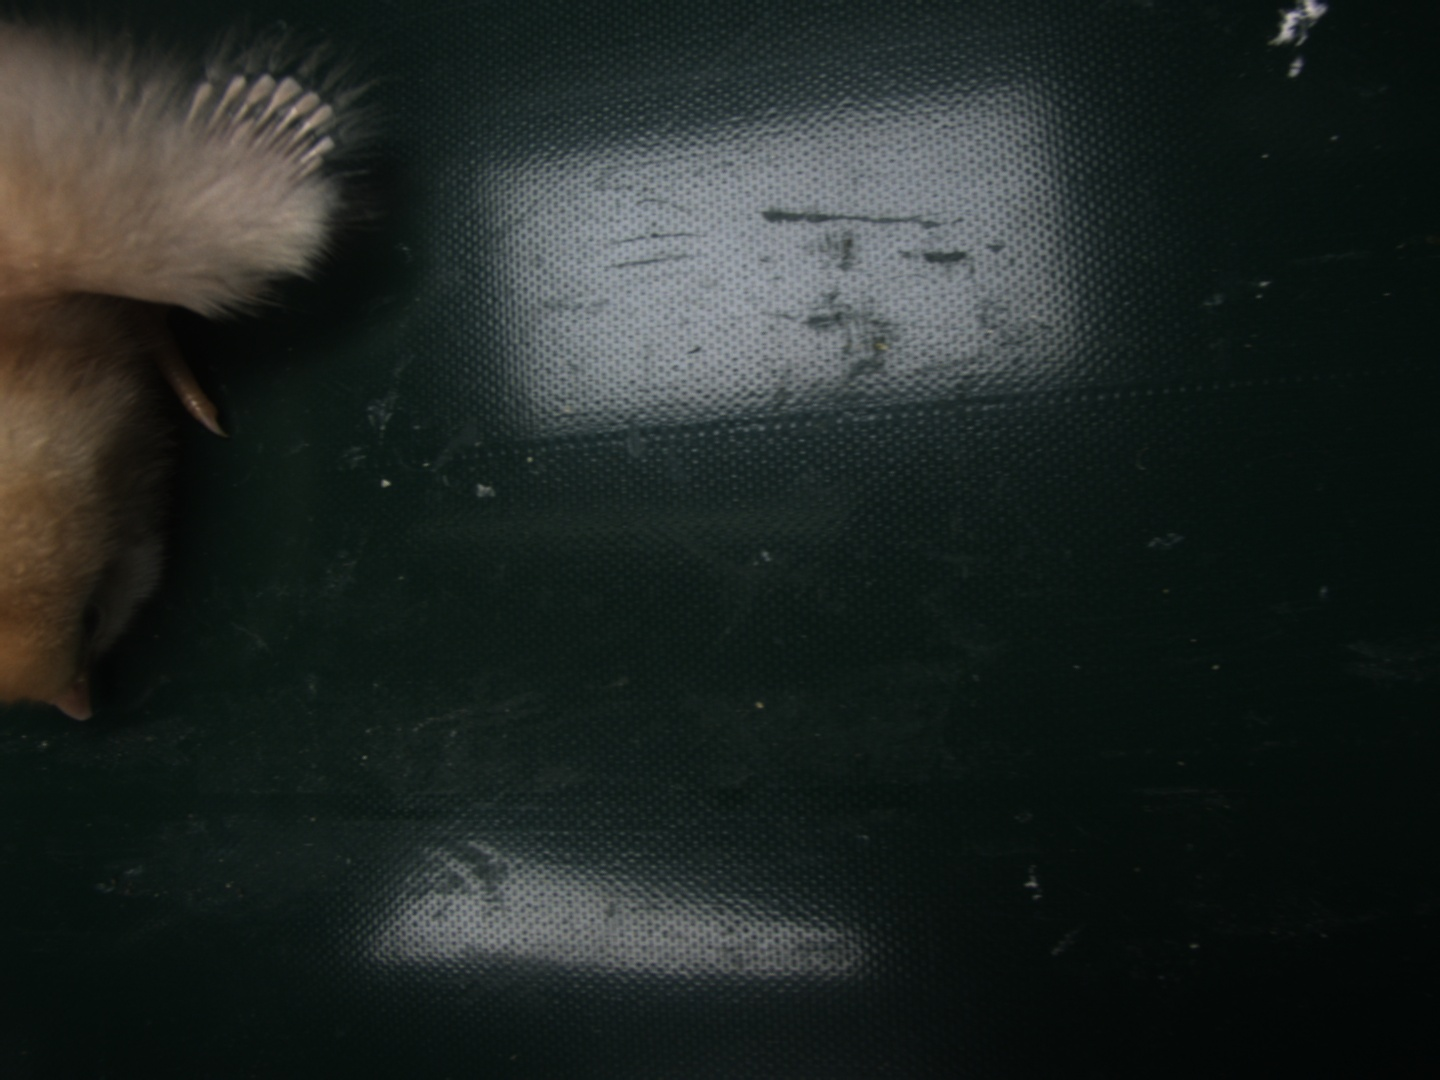female: (183, 75, 334, 180)
